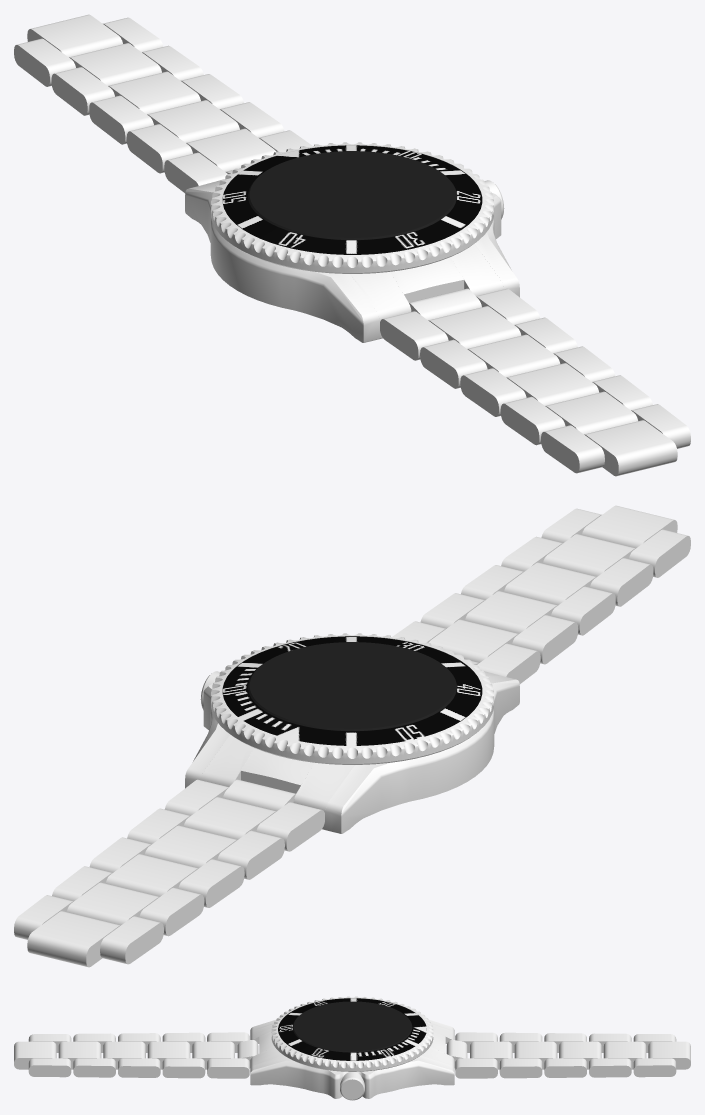
File: invicta_watch.glb
The picture shows the model from 3 angles, top to bottom: view 1: azimuth 30°, elevation 25°; view 2: azimuth 150°, elevation 25°; view 3: azimuth 270°, elevation 25°; orthographic projection. The views are drawn at different scales.
Parts seen in each view (by area): view 1: Object_6, Object_5, Object_2, Object_4, Object_3; view 2: Object_6, Object_5, Object_2, Object_4, Object_3; view 3: Object_5, Object_6, Object_4, Object_2, Object_3.
Part boxes in pixels (x1,y1,x2,y2): Object_6: (27,14,677,476); Object_5: (14,17,690,473); Object_2: (248,151,456,240); Object_4: (185,180,519,342); Object_3: (222,145,482,254); Object_6: (27,505,677,967); Object_5: (14,508,690,964); Object_2: (248,642,456,731); Object_4: (185,671,519,833); Object_3: (222,636,482,745); Object_5: (28,1024,676,1078); Object_6: (14,996,690,1071); Object_4: (250,1020,454,1100); Object_2: (292,1001,412,1052); Object_3: (278,998,426,1060).
Size of the model in its own units: 0.041 by 0.0106 by 0.1587.
Materials: 5 (1 with a texture image).
